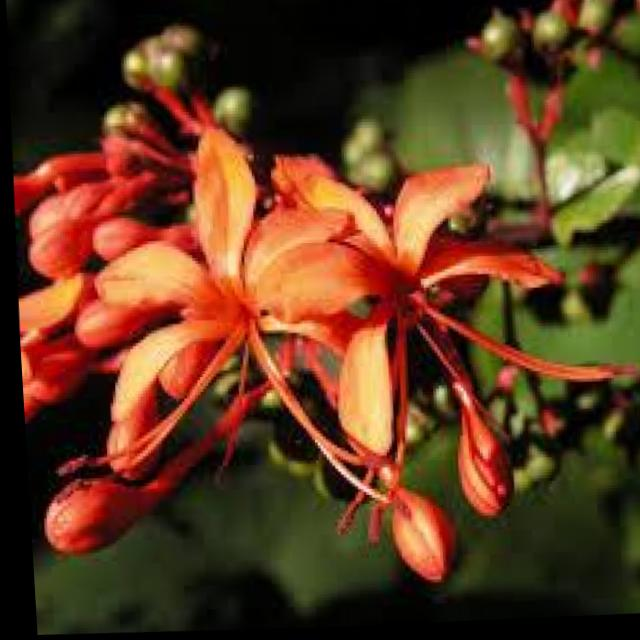Flower: (73, 135, 556, 564)
